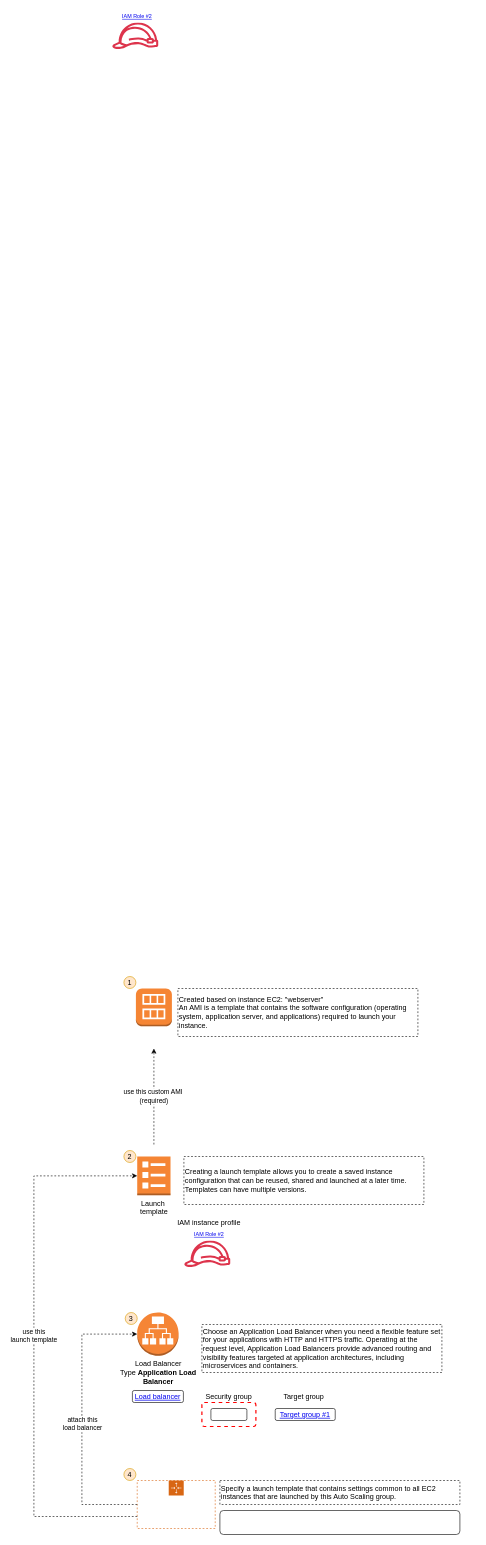
This 486x1545 diagram has some shape labels left out. Each missing label, with the box of its shape:
AMI: (135, 988, 172, 1026)
Auto Scaling group: (137, 1480, 215, 1528)
home?region=us-east-2#AutoScalingGroupDetails:id=auto-sg-webserver;view=details: (219, 1510, 460, 1534)
SG #1: (210, 1408, 247, 1420)
